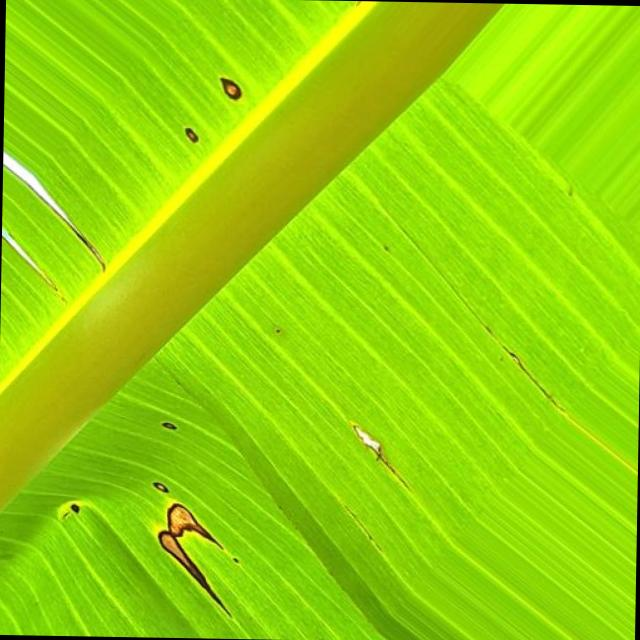Banana_Black_Sigatoka: (111, 442, 272, 640), (167, 65, 263, 187)
